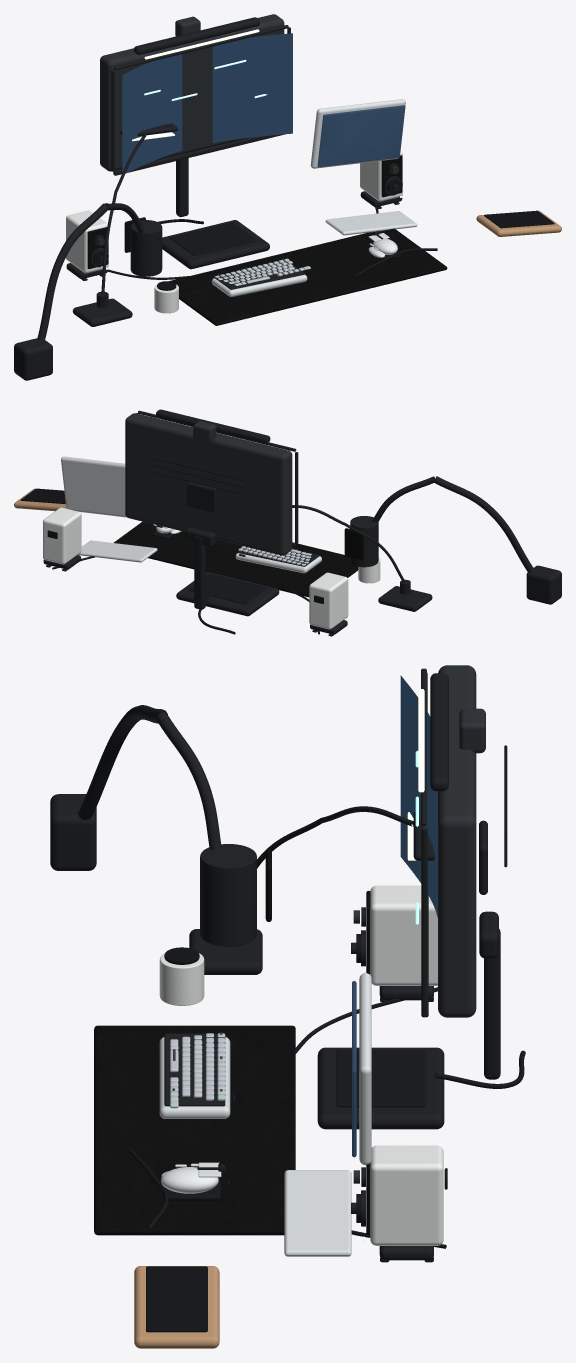
The model's file is p2s_commercial_desk_accessory_kit_v2.glb.
3 renders of one model, top to bottom at view 1: azimuth 30°, elevation 25°; view 2: azimuth 150°, elevation 25°; view 3: azimuth 270°, elevation 25°, orthographic. The views are drawn at different scales.
Visible parts, largest first — view 1: accessory_v2_monitor_32inch_subtle_oled_glass_panel, accessory_v2_real_scale_xl_desk_mat_stitched_edge, accessory_v2_monitor_32inch_graphite_rear_shell, accessory_v2_portable_side_display_black_glass, accessory_v2_monitor_realistic_weighted_base, accessory_broadcast_mic_capsule_body, accessory_v2_monitor_base_rubber_foot_inset, accessory_v2_portable_display_slim_folio_stand, accessory_broadcast_mic_clamp, accessory_broadcast_mic_lower_boom, accessory_v2_monitor_lightbar_50cm_aluminum_body, accessory_v2_left_speaker_ora_scale_white_cabinet_100x175x14 (+12 smaller); view 2: accessory_v2_monitor_32inch_graphite_rear_shell, accessory_v2_real_scale_xl_desk_mat_stitched_edge, accessory_v2_portable_side_display_aluminum_back, accessory_v2_left_speaker_ora_scale_white_cabinet_100x175x14, accessory_v2_right_speaker_ora_scale_white_cabinet_100x175x1, accessory_v2_monitor_realistic_weighted_base, accessory_v2_monitor_base_rubber_foot_inset, accessory_broadcast_mic_clamp, accessory_v2_portable_display_slim_folio_stand, accessory_broadcast_mic_lower_boom, accessory_broadcast_mic_capsule_body, accessory_v2_monitor_lightbar_50cm_aluminum_body (+14 smaller); view 3: accessory_v2_real_scale_xl_desk_mat_stitched_edge, accessory_v2_monitor_32inch_graphite_rear_shell, accessory_v2_right_speaker_ora_scale_white_cabinet_100x175x1, accessory_v2_left_speaker_ora_scale_white_cabinet_100x175x14, accessory_v2_portable_display_slim_folio_stand, accessory_broadcast_mic_capsule_body, accessory_v2_monitor_realistic_weighted_base, accessory_v2_monitor_32inch_subtle_oled_glass_panel, accessory_v2_monitor_base_rubber_foot_inset, accessory_v2_tray_recess_shadow, accessory_broadcast_mic_clamp, accessory_v2_oak_tray_low_rounded_rect (+14 smaller).
Boxes of the visible parts, x1,y1,x2,y2 form: accessory_v2_monitor_32inch_subtle_oled_glass_panel: (122,33,292,173); accessory_v2_real_scale_xl_desk_mat_stitched_edge: (169,228,447,325); accessory_v2_monitor_32inch_graphite_rear_shell: (100,14,284,171); accessory_v2_portable_side_display_black_glass: (317,105,405,166); accessory_v2_monitor_realistic_weighted_base: (162,220,269,269); accessory_broadcast_mic_capsule_body: (130,220,162,276); accessory_v2_monitor_base_rubber_foot_inset: (170,222,256,255); accessory_v2_portable_display_slim_folio_stand: (325,211,417,235); accessory_broadcast_mic_clamp: (14,338,52,380); accessory_broadcast_mic_lower_boom: (37,203,108,340); accessory_v2_monitor_lightbar_50cm_aluminum_body: (134,17,259,54); accessory_v2_left_speaker_ora_scale_white_cabinet_100x175x14: (66,210,108,273); accessory_v2_monitor_32inch_graphite_rear_shell: (125,413,292,555); accessory_v2_real_scale_xl_desk_mat_stitched_edge: (113,521,358,597); accessory_v2_portable_side_display_aluminum_back: (61,456,126,517); accessory_v2_left_speaker_ora_scale_white_cabinet_100x175x14: (309,572,348,629); accessory_v2_right_speaker_ora_scale_white_cabinet_100x175x1: (43,507,81,564); accessory_v2_monitor_realistic_weighted_base: (176,571,279,616); accessory_v2_monitor_base_rubber_foot_inset: (188,573,266,604); accessory_broadcast_mic_clamp: (526,565,561,604); accessory_v2_portable_display_slim_folio_stand: (78,540,157,562); accessory_broadcast_mic_lower_boom: (433,476,535,572); accessory_broadcast_mic_capsule_body: (350,516,378,567); accessory_v2_monitor_lightbar_50cm_aluminum_body: (156,409,270,443); accessory_v2_real_scale_xl_desk_mat_stitched_edge: (94,1025,295,1235); accessory_v2_monitor_32inch_graphite_rear_shell: (438,665,476,1017); accessory_v2_right_speaker_ora_scale_white_cabinet_100x175x1: (370,1145,443,1245); accessory_v2_left_speaker_ora_scale_white_cabinet_100x175x14: (370,885,437,985); accessory_v2_portable_display_slim_folio_stand: (284,1170,351,1256); accessory_broadcast_mic_capsule_body: (200,844,256,946); accessory_v2_monitor_realistic_weighted_base: (317,1047,444,1129); accessory_v2_monitor_32inch_subtle_oled_glass_panel: (400,675,437,917); accessory_v2_monitor_base_rubber_foot_inset: (336,1050,425,1107); accessory_v2_tray_recess_shadow: (146,1266,207,1332); accessory_broadcast_mic_clamp: (50,794,96,870); accessory_v2_oak_tray_low_rounded_rect: (134,1266,219,1348).
Size of the model in its own units: 2.27 by 0.8235 by 0.9198.
17 materials, 4 textured.
